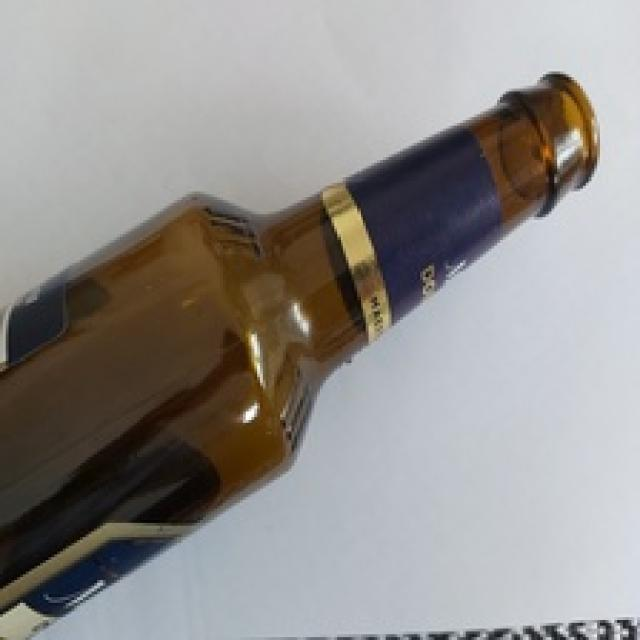Glass: (0, 73, 600, 640)
